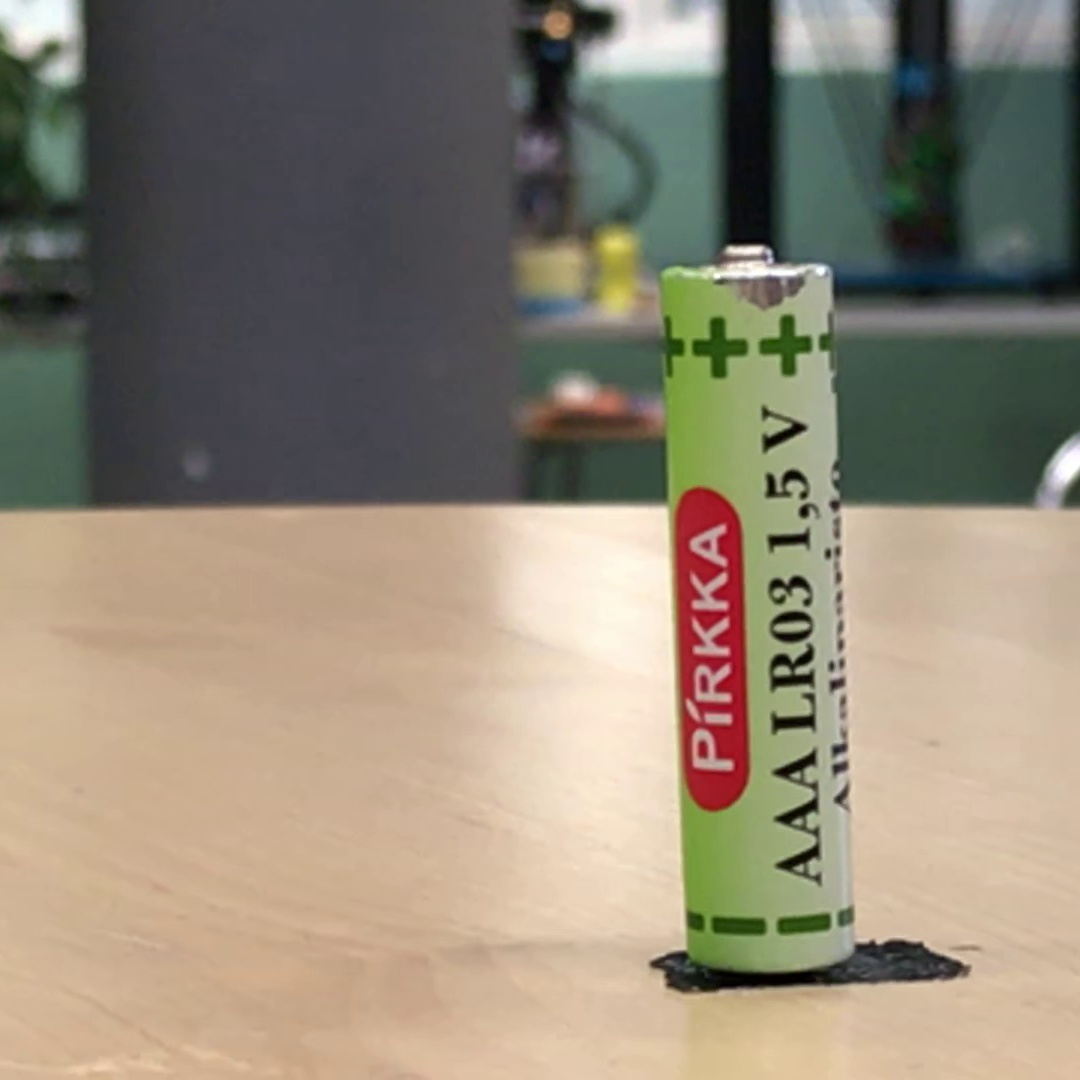keyword: (751, 396, 852, 594)
